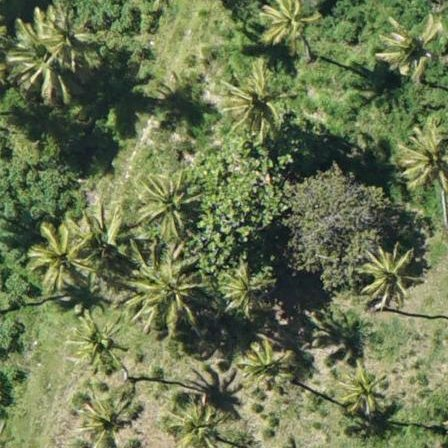palm_tree: (24, 218, 98, 297), (127, 253, 201, 328), (134, 165, 202, 237), (392, 119, 448, 195), (222, 71, 289, 133), (375, 17, 439, 81), (35, 9, 105, 67), (254, 1, 323, 55), (162, 396, 225, 448), (73, 394, 137, 445), (218, 261, 276, 317), (360, 245, 414, 302), (68, 317, 123, 369), (242, 340, 296, 391), (337, 364, 386, 414)
